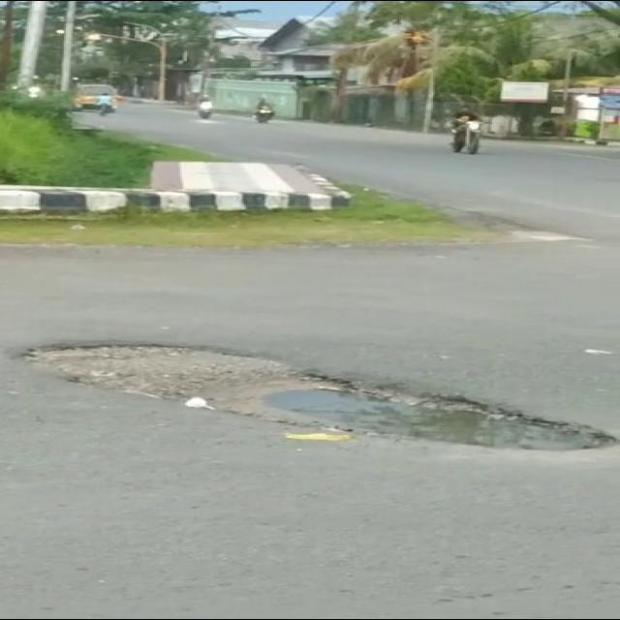lubang: (25, 344, 619, 462)
